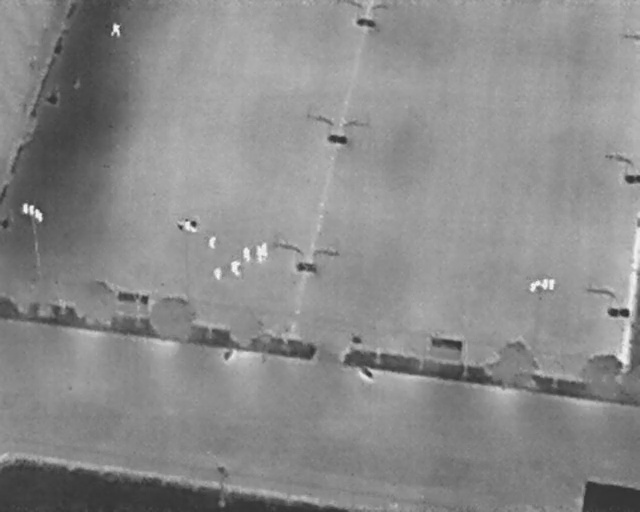Person: (110, 23, 121, 38), (231, 260, 241, 275), (242, 247, 251, 262), (255, 246, 263, 262), (213, 267, 222, 280), (208, 236, 216, 250), (261, 242, 268, 258)
